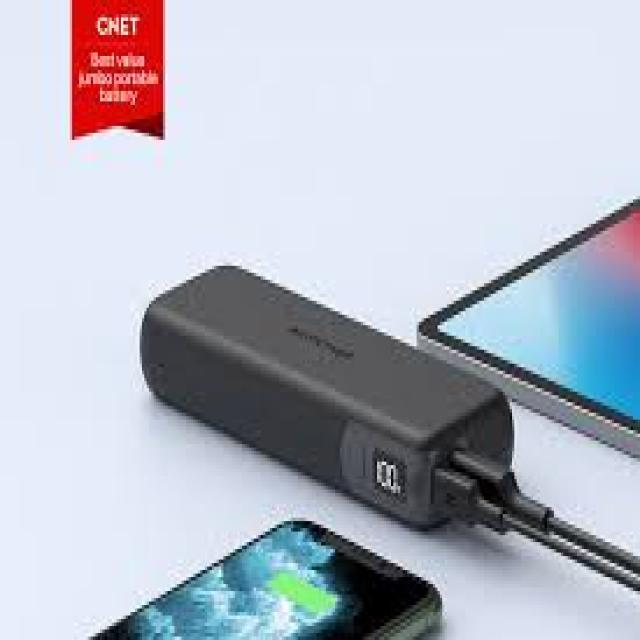portable-charger: (140, 256, 518, 529)
